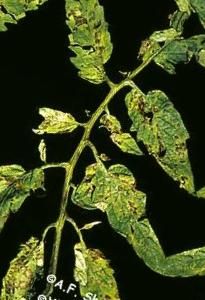Tomato Septoria leaf spot: (51, 148, 194, 279), (104, 83, 205, 196), (41, 0, 139, 83), (0, 139, 54, 271), (135, 13, 205, 113), (55, 237, 154, 300), (27, 98, 86, 149), (93, 113, 147, 163)
